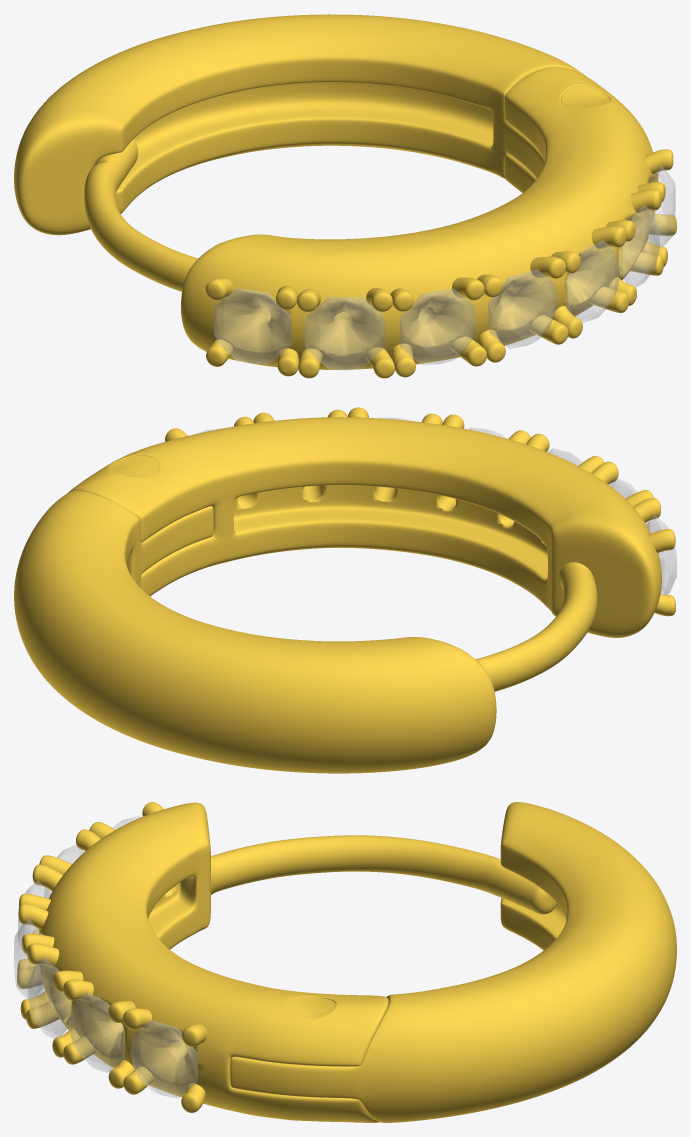
Rendered from 10mm_hoop.glb.
3 renders of one model, top to bottom at view 1: azimuth 30°, elevation 25°; view 2: azimuth 150°, elevation 25°; view 3: azimuth 270°, elevation 25°, orthographic. The views are drawn at different scales.
Visible parts, largest first — view 1: 10MM_HOOP_CRYSTAL; view 2: 10MM_HOOP_CRYSTAL; view 3: 10MM_HOOP_CRYSTAL.
Boxes of the visible parts, x1,y1,x2,y2 form: 10MM_HOOP_CRYSTAL: (14,14,676,378); 10MM_HOOP_CRYSTAL: (14,407,676,773); 10MM_HOOP_CRYSTAL: (14,802,676,1122).
Size of the model in its own units: 0.9078 by 0.1961 by 1.03.
